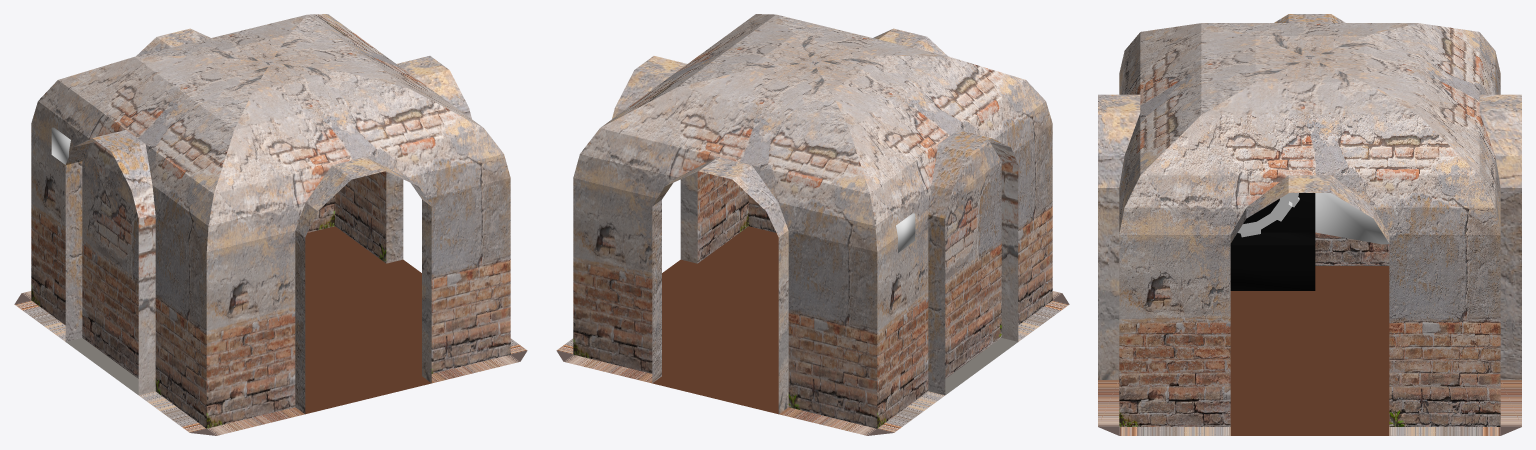
Rendered from MAZE-ELEMENTS-tries-2.fbx.
3 views of the same model, side by side, from view 1: azimuth 30°, elevation 25°; view 2: azimuth 150°, elevation 25°; view 3: azimuth 270°, elevation 25° (orthographic). The views are drawn at different scales.
Visible parts, largest first — view 1: tries.001, mashine; view 2: tries.001, mashine; view 3: tries.001, mashine, gear-big.
Part boxes in pixels (box(x1,y1,x2,y2)): tries.001: box(14, 14, 527, 435); mashine: box(51, 127, 70, 164); tries.001: box(556, 14, 1069, 435); mashine: box(896, 213, 915, 252); tries.001: box(1098, 14, 1521, 435); mashine: box(1230, 193, 1389, 290); gear-big: box(1237, 193, 1292, 237).
Bounding box in the file's own units: 400 × 300 × 400.
